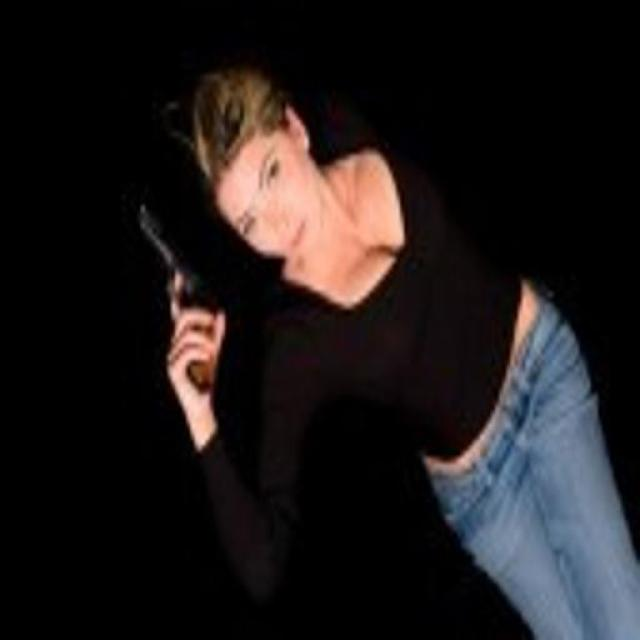pistol: (125, 187, 227, 411)
